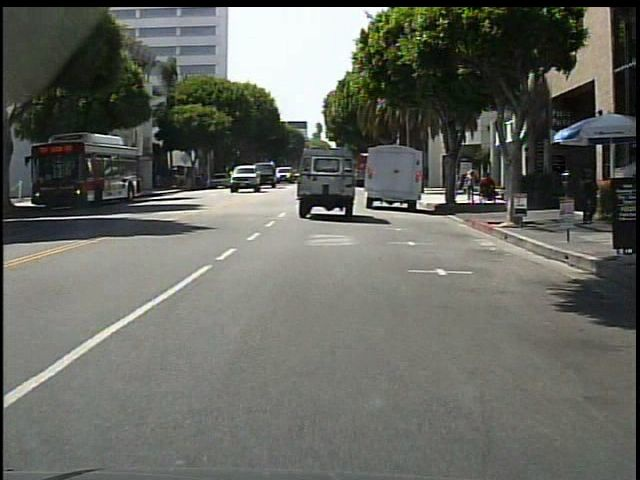person: (609, 149, 639, 255), (578, 168, 599, 226), (452, 164, 464, 204), (466, 168, 479, 204)
